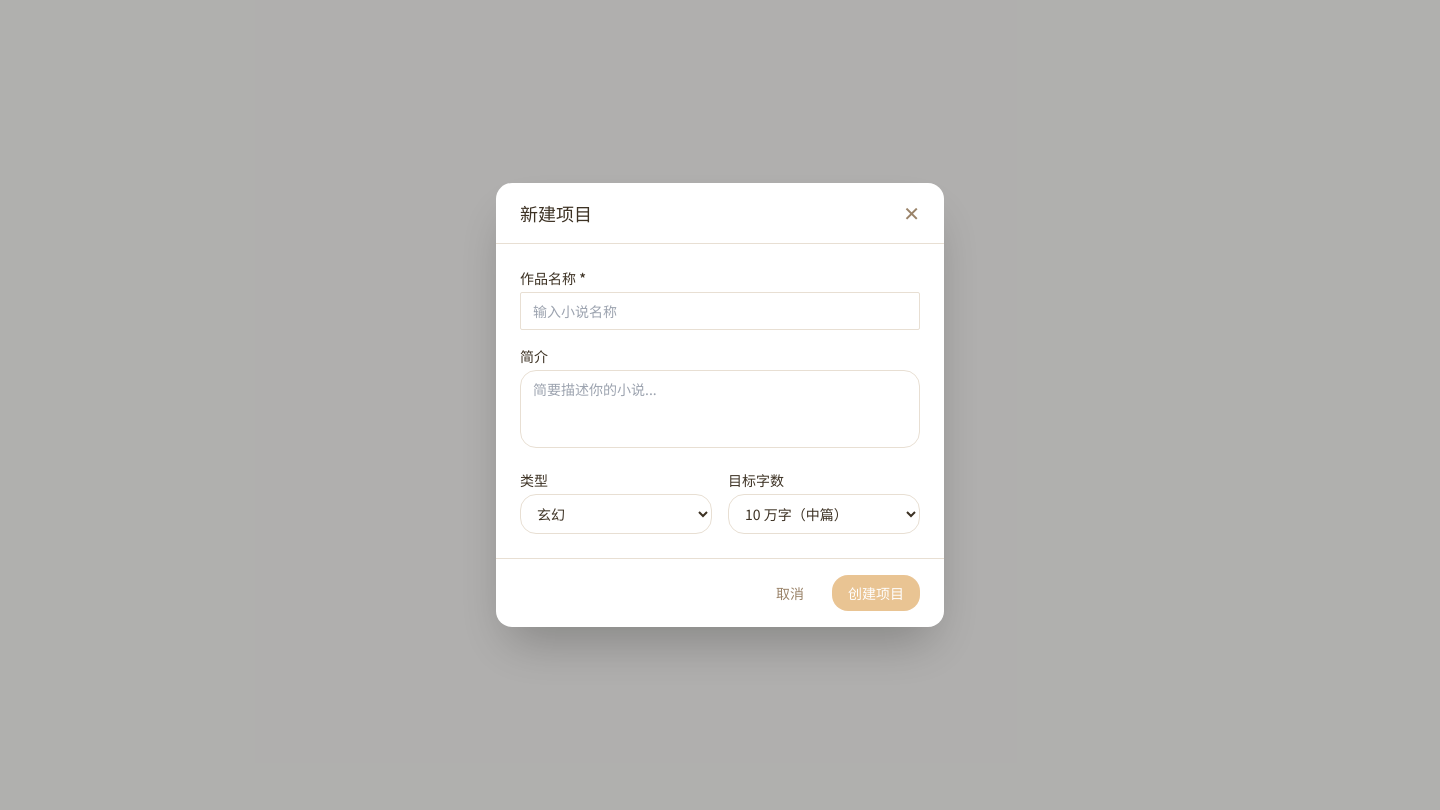
ProjectDialog › should show error when project creation throws
Type "My Novel" into the field with placeholder "输入小说名称" at (720, 311), box [520,292,920,330]
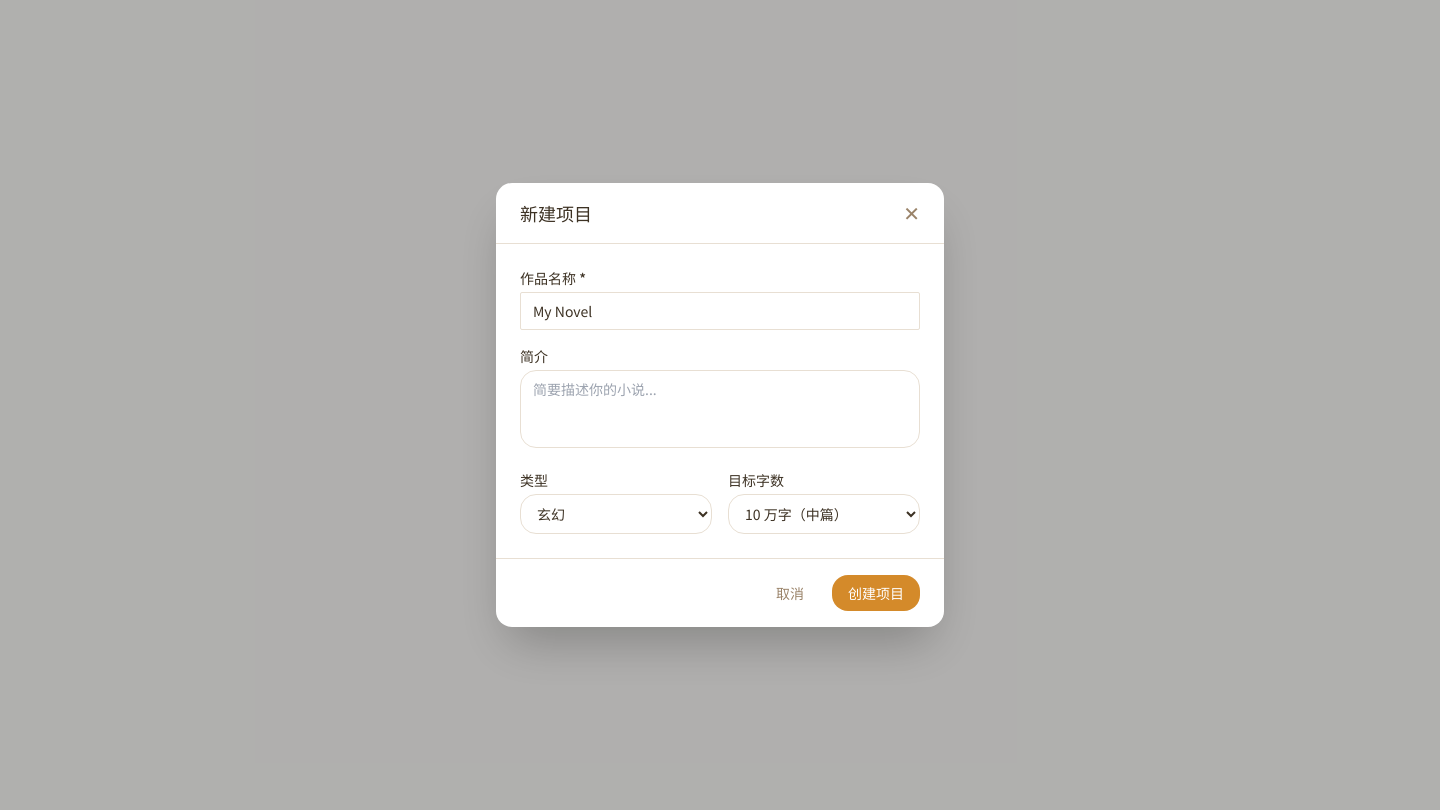
Click the button "创建项目" at (876, 593), box [832,575,920,611]
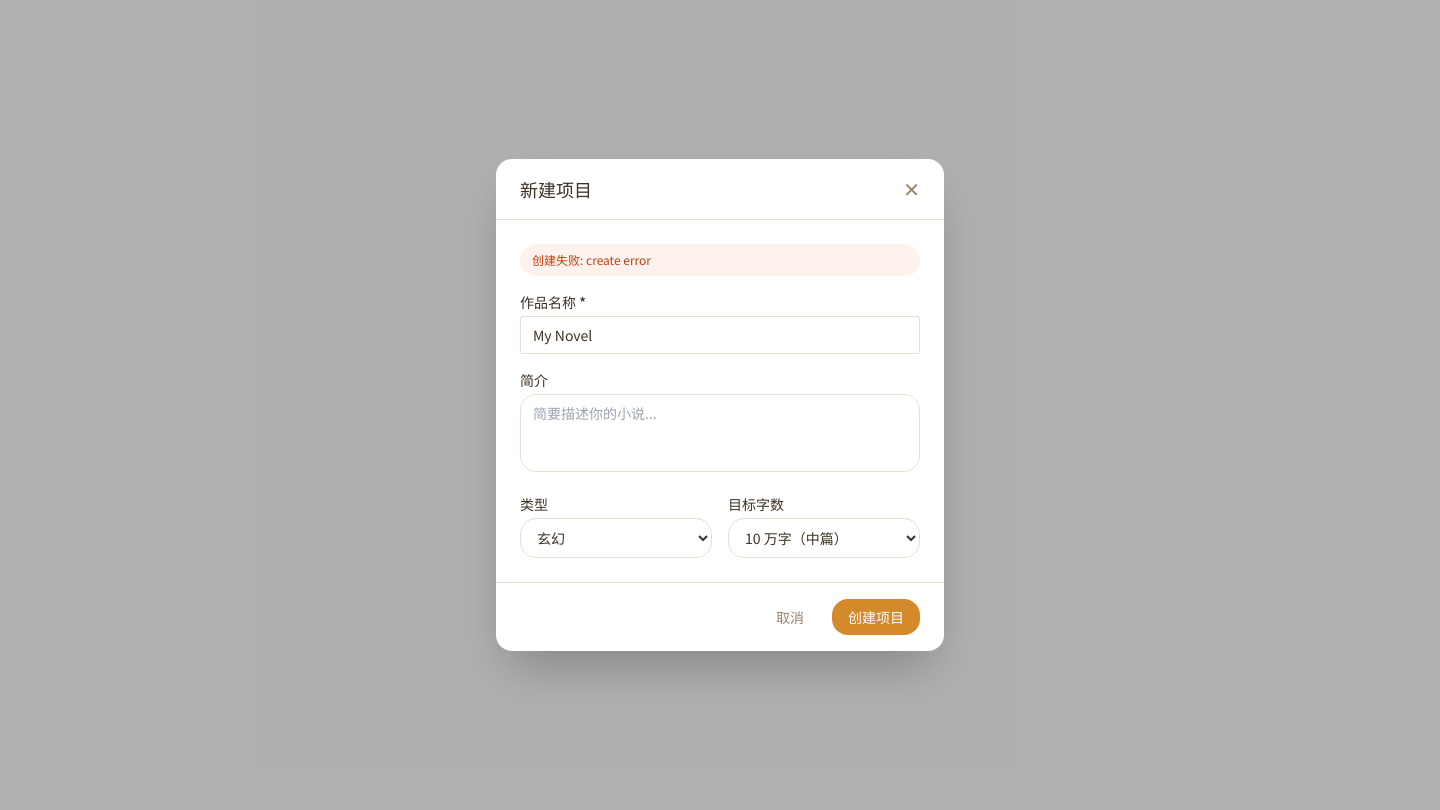
Expected: the text "创建失败: create error" is shown, [520,244,920,276]
